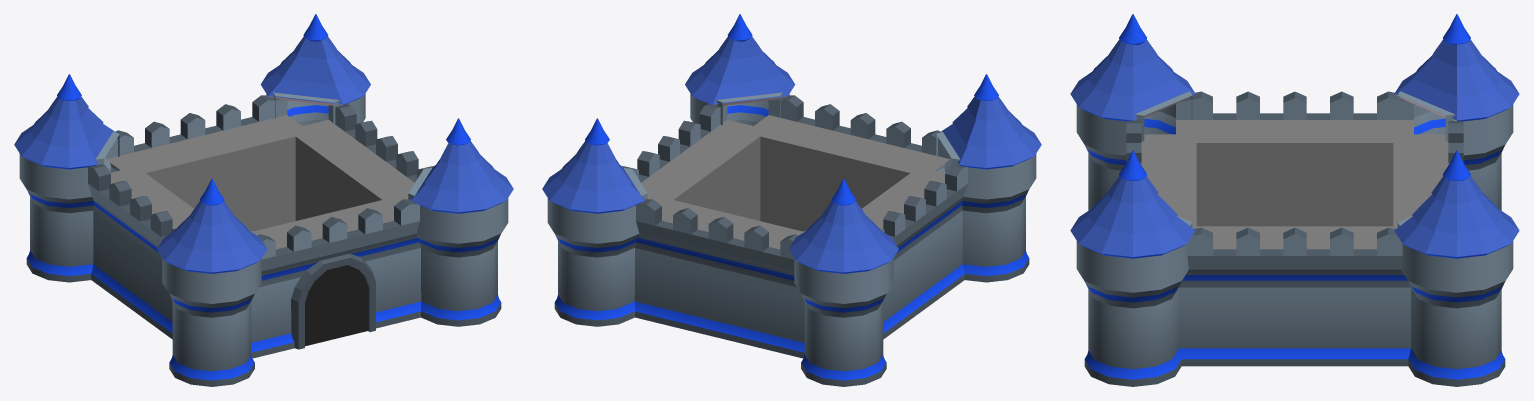
The model's file is Castle_B_friendly.fbx.
3 views of the same model, side by side, from view 1: azimuth 30°, elevation 25°; view 2: azimuth 150°, elevation 25°; view 3: azimuth 270°, elevation 25° (orthographic). The views are drawn at different scales.
Parts seen in each view (by area): view 1: Castle_B_friendly; view 2: Castle_B_friendly; view 3: Castle_B_friendly.
Boxes of the visible parts, x1,y1,x2,y2 form: Castle_B_friendly: [14, 14, 513, 386]; Castle_B_friendly: [542, 14, 1041, 386]; Castle_B_friendly: [1070, 14, 1519, 386].
Bounding box in the file's own units: 14.17 × 7.52 × 14.2.
